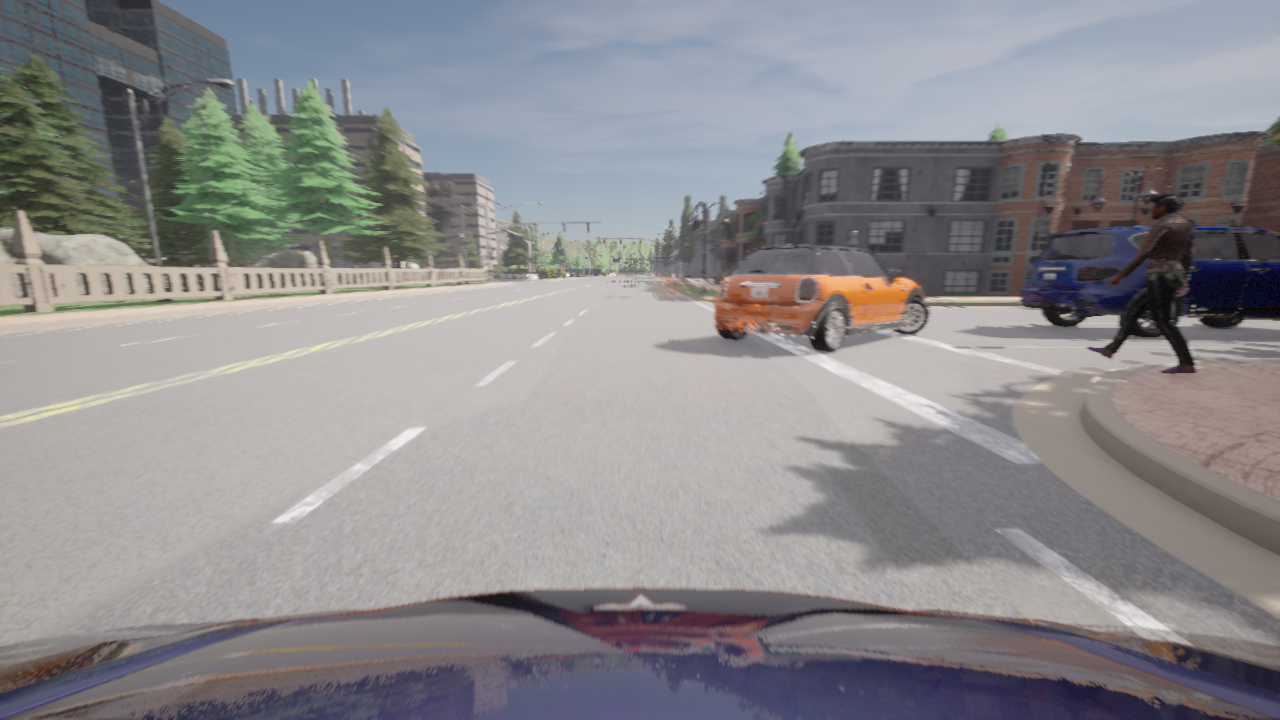cyclist: (0, 588, 1279, 719), (1020, 225, 1279, 337), (715, 241, 929, 351), (566, 271, 573, 275), (574, 271, 580, 275), (580, 274, 581, 275)
pedestrian: (1086, 193, 1197, 373)
